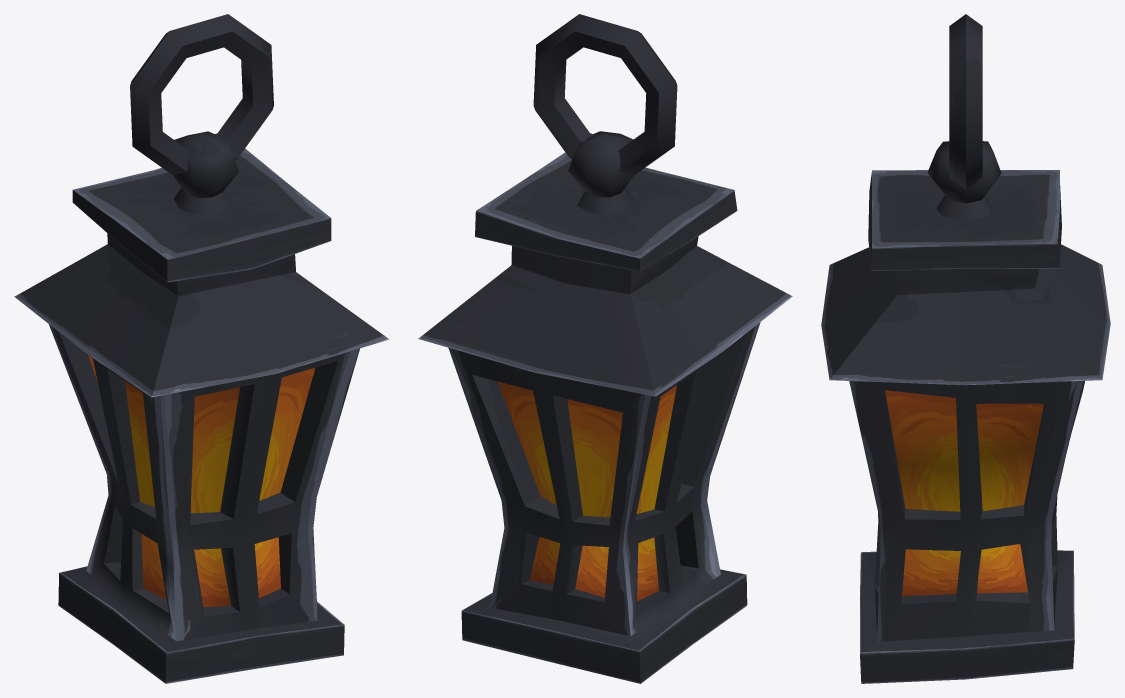
The model's file is SM_PROP_lantern_interior_01.fbx.
The picture shows the model from 3 angles, left to right: view 1: azimuth 30°, elevation 25°; view 2: azimuth 150°, elevation 25°; view 3: azimuth 270°, elevation 25°; orthographic projection.
Visible parts, largest first — view 1: SM_PROP_lantern_interior_01, SM_PROP_lantern_handle_interior_01; view 2: SM_PROP_lantern_interior_01, SM_PROP_lantern_handle_interior_01; view 3: SM_PROP_lantern_interior_01, SM_PROP_lantern_handle_interior_01.
Boxes of the visible parts, <box> form: SM_PROP_lantern_interior_01: <box>14,131,389,683</box>; SM_PROP_lantern_handle_interior_01: <box>130,14,273,175</box>; SM_PROP_lantern_interior_01: <box>418,131,792,683</box>; SM_PROP_lantern_handle_interior_01: <box>533,14,677,175</box>; SM_PROP_lantern_interior_01: <box>821,141,1110,683</box>; SM_PROP_lantern_handle_interior_01: <box>949,14,982,189</box>.
Size of the model in its own units: 26.7 by 66.29 by 28.34.
